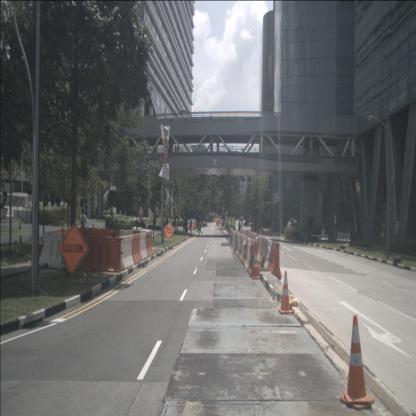barrier: (74, 228, 120, 262), (85, 236, 124, 272), (40, 232, 75, 272), (48, 229, 71, 257), (118, 234, 135, 270), (268, 241, 282, 280), (248, 240, 260, 277), (119, 230, 134, 255), (263, 239, 274, 272), (132, 233, 142, 265), (258, 237, 268, 267), (244, 236, 252, 272), (145, 231, 154, 257), (140, 232, 148, 260), (242, 235, 249, 266), (238, 235, 246, 262), (256, 236, 263, 262), (235, 232, 241, 257)
cone: (340, 315, 374, 410), (278, 271, 293, 314), (251, 252, 260, 279)
